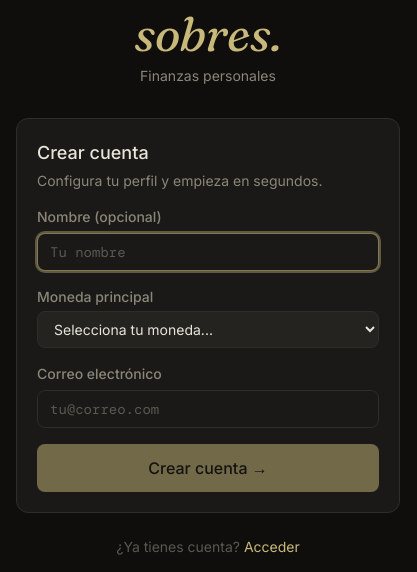
Test: RegisterPage › submit button is disabled until email and currency are filled
Expected: the button "Crear cuenta →" is disabled, x1=37 y1=444 x2=379 y2=492
Type "user@test.com" into the field with placeholder "tu@correo.com".
click(208, 408); type("user@test.com")  # box x1=37 y1=390 x2=379 y2=428
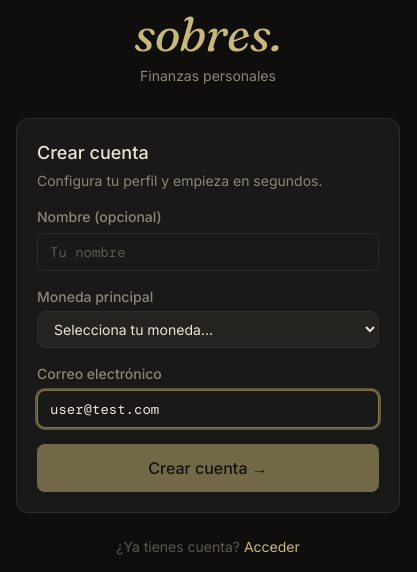
Expected: the button "Crear cuenta →" is disabled, x1=37 y1=444 x2=379 y2=492
Select "$ USD Coin (USDC)" in the dropdown labelled "Moneda principal" at [208, 329], box x1=37 y1=310 x2=379 y2=348
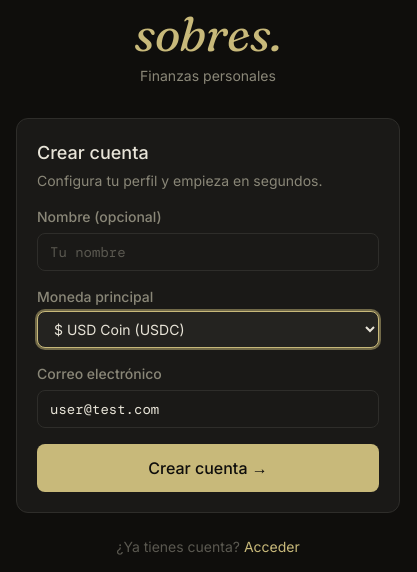
Expected: the button "Crear cuenta →" is enabled, x1=37 y1=444 x2=379 y2=492
